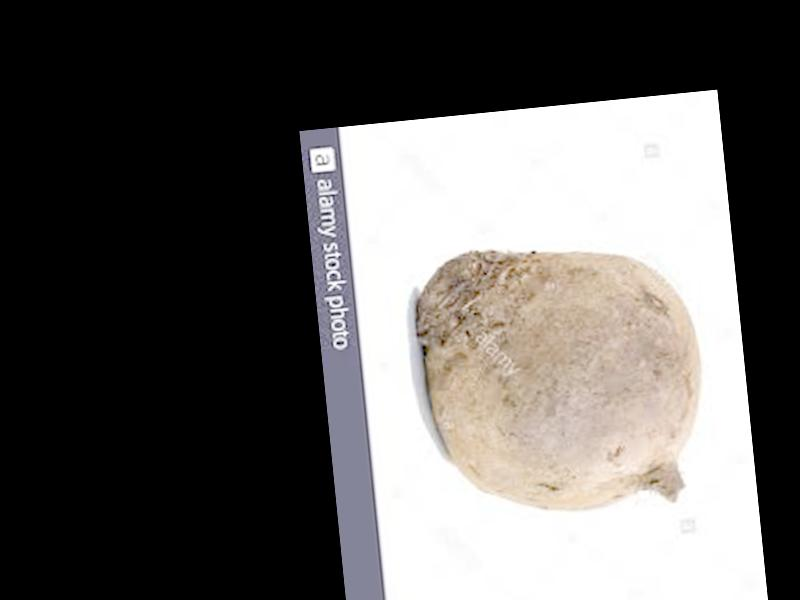Beet: (410, 232, 713, 526)
